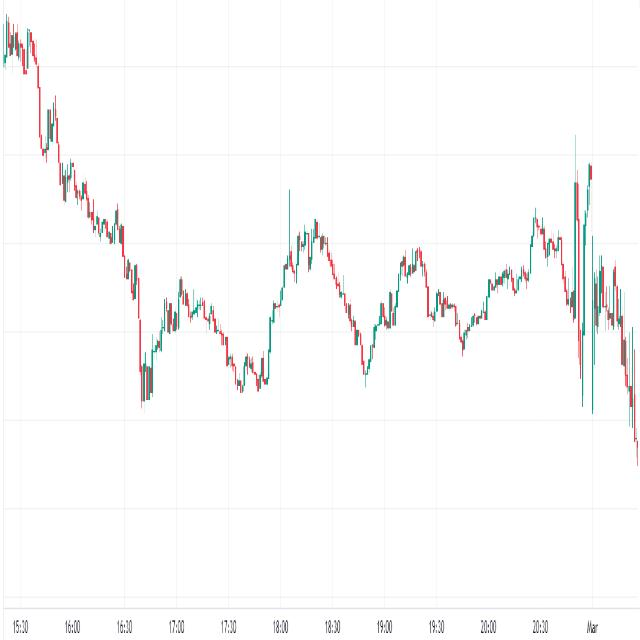Rounding-Top: (264, 209, 366, 358), (147, 274, 240, 379)
